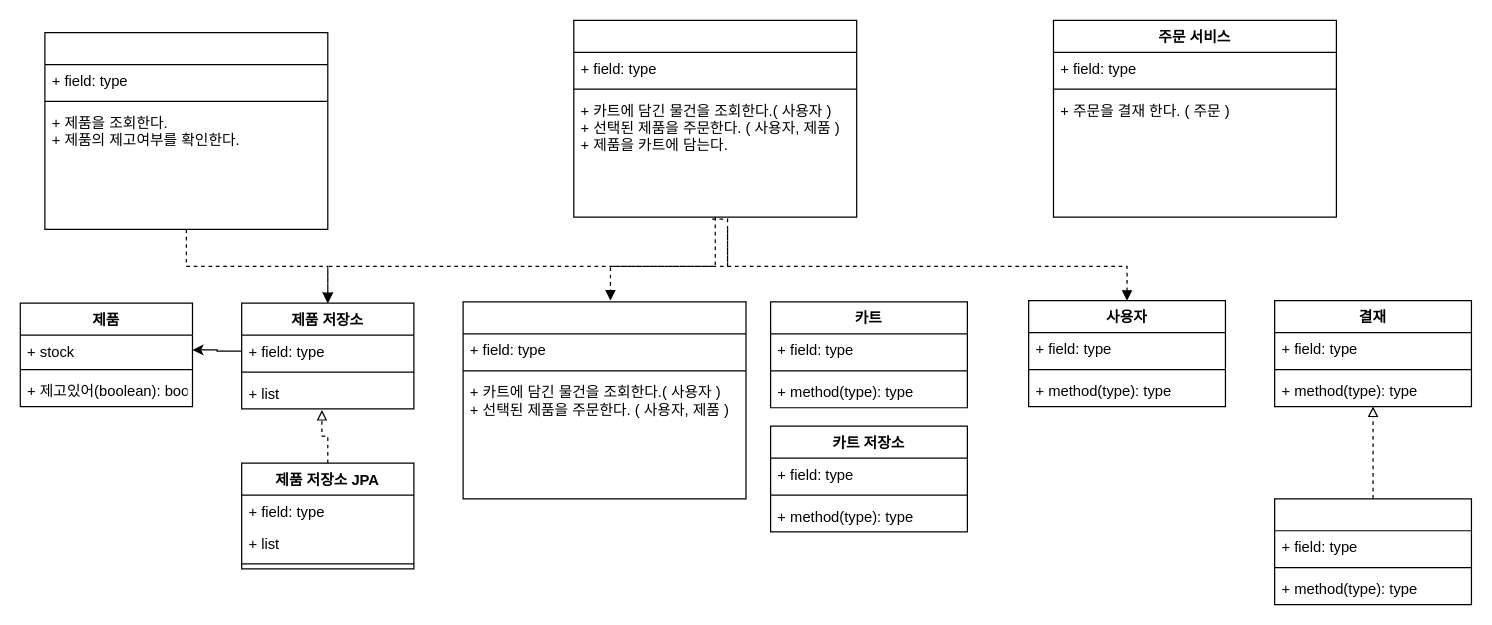
Image size: 1492x625. Some labels were removed from this diagram. The shapes that lost their labels are listed below. From the top down, each one's box as (x1, y1, x2, y2) in pixels, then its label:
(44, 31, 328, 229): 제품 서비스
(573, 19, 857, 217): 카트 서비스
(462, 301, 746, 499): 카트 도메인 서비스
(1273, 498, 1471, 605): 결재 인터페이스
